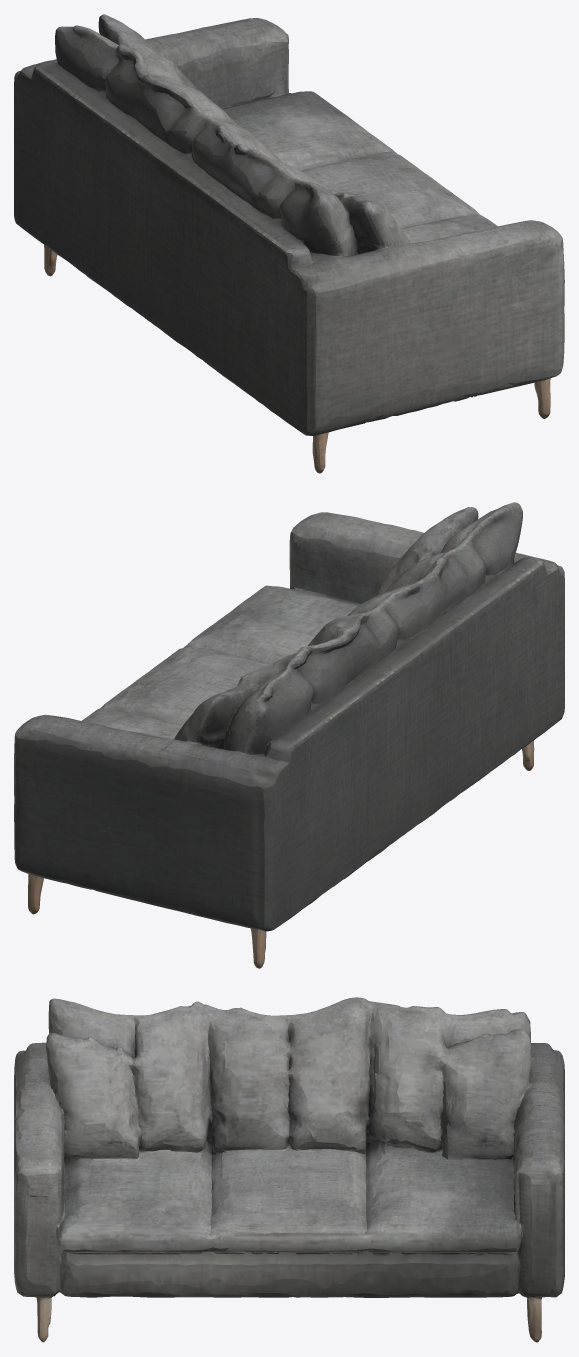
Rendered from room__n27-1.glb.
3 renders of one model, top to bottom at view 1: azimuth 30°, elevation 25°; view 2: azimuth 150°, elevation 25°; view 3: azimuth 270°, elevation 25°, orthographic. The views are drawn at different scales.
Bounding box in the file's own units: 0.5397 × 0.4971 × 1.01.
1 material, 1 textured.
